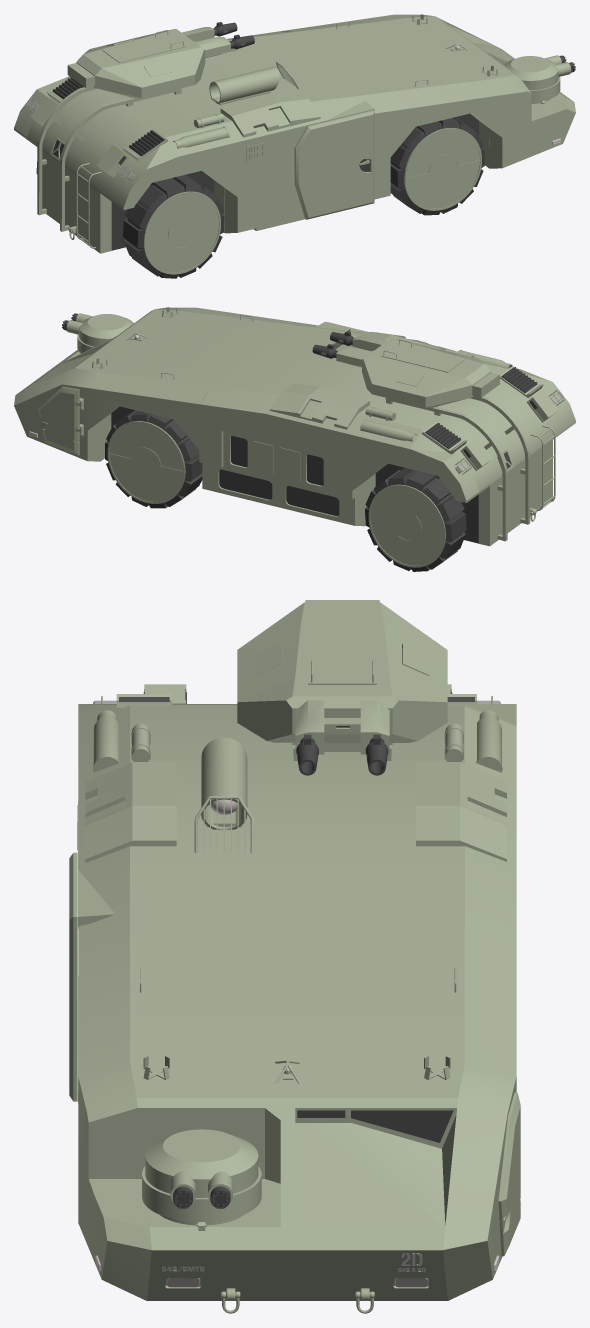
Rendered from APC2A.fbx.
3 views of the same model, one above another, from view 1: azimuth 30°, elevation 25°; view 2: azimuth 150°, elevation 25°; view 3: azimuth 270°, elevation 25° (orthographic). The views are drawn at different scales.
Parts seen in each view (by area): view 1: hull, turret, wheel2, door, wheel1, railstows, fturret, spotlight, box, accessor1; view 2: hull, wheelcopy, turret, railstows, crewdoor, fturret, box, accessor1; view 3: hull, turret, fturret, spotlight, crewdoor, windscreen, door, accessor1.
Part boxes in pixels (x1,y1,x2,y2): hull: (14, 14, 575, 253); turret: (67, 22, 254, 98); wheel2: (123, 175, 224, 278); door: (294, 110, 374, 219); wheel1: (390, 117, 484, 215); railstows: (37, 87, 181, 248); fturret: (503, 55, 575, 103); spotlight: (209, 61, 299, 105); box: (30, 96, 129, 177); accessor1: (336, 14, 497, 86); hull: (14, 307, 575, 546); wheelcopy: (105, 410, 466, 571); turret: (312, 331, 499, 407); railstows: (385, 396, 555, 541); crewdoor: (38, 386, 83, 455); fturret: (62, 313, 133, 353); box: (460, 389, 558, 470); accessor1: (92, 307, 253, 379); hull: (77, 694, 516, 1300); turret: (237, 600, 447, 775); fturret: (142, 1129, 261, 1230); spotlight: (194, 737, 253, 853); crewdoor: (498, 1092, 520, 1256); windscreen: (297, 1110, 453, 1142); door: (69, 852, 77, 1101); accessor1: (140, 967, 456, 1084).
Size of the model in its own units: 41692 by 15131 by 16837.
